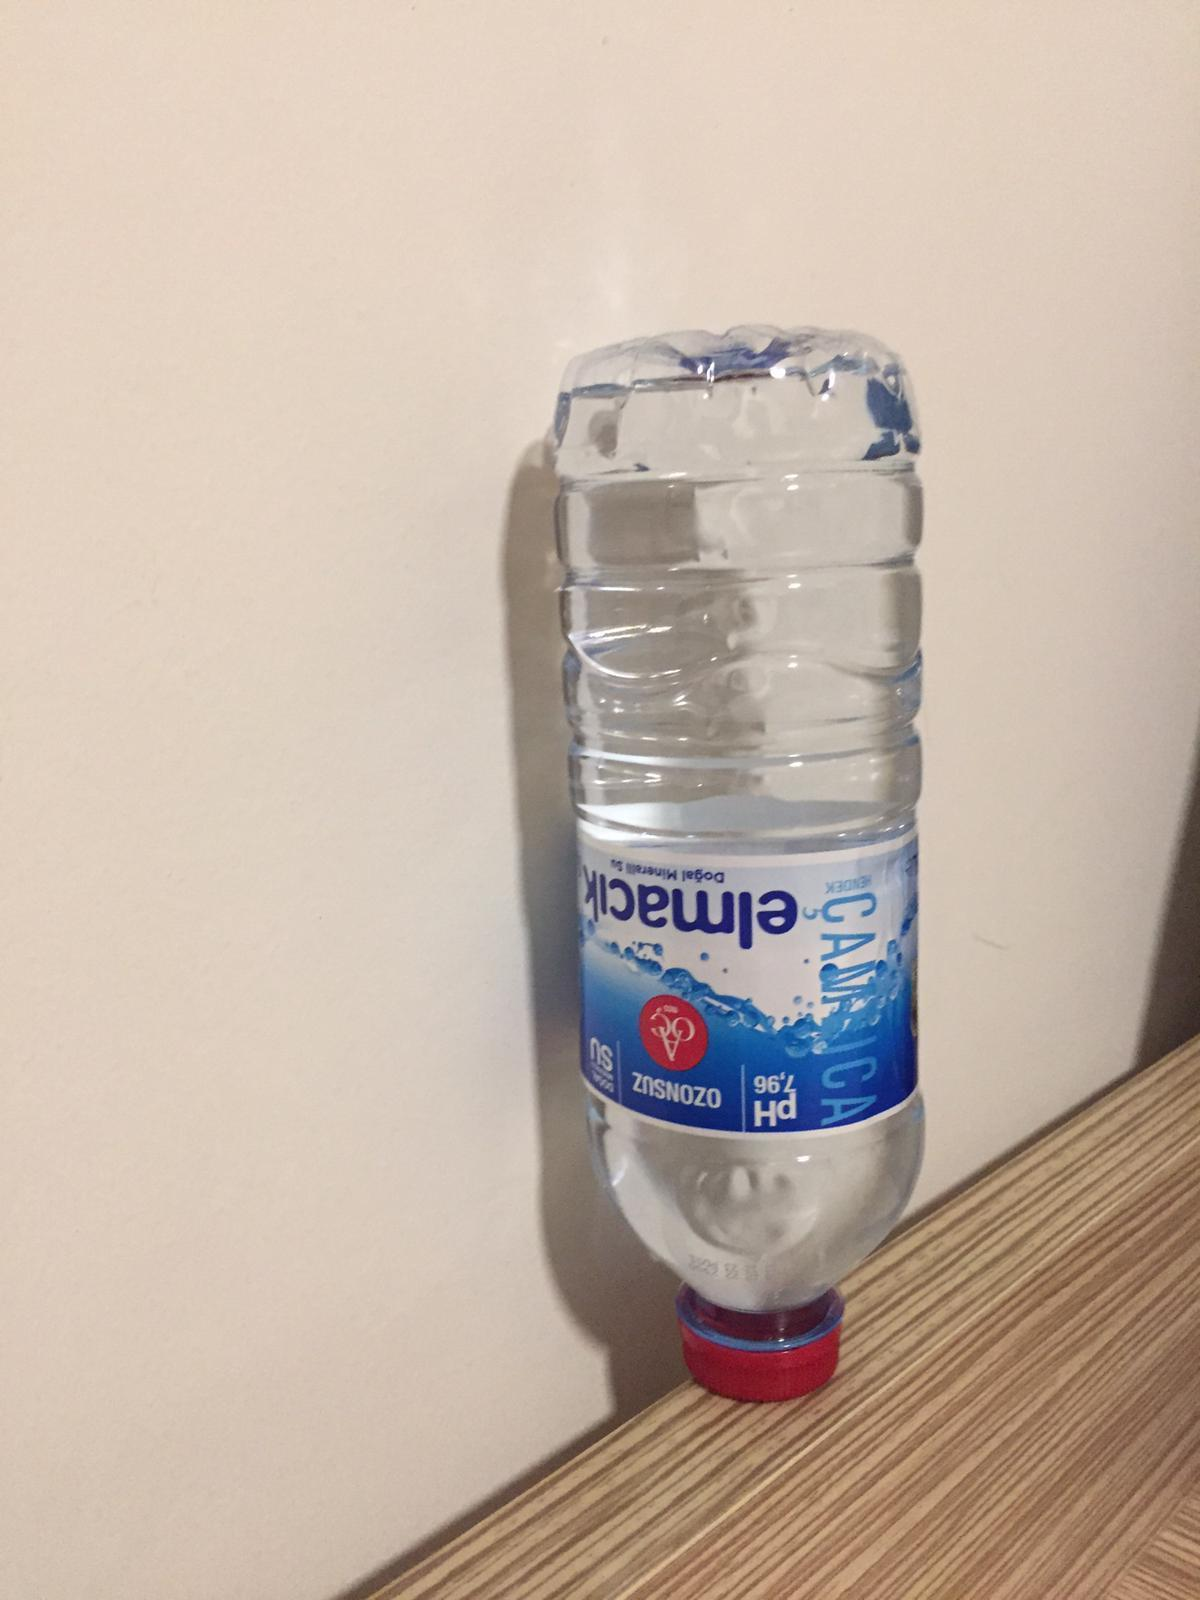bottle: (558, 317, 930, 1401)
